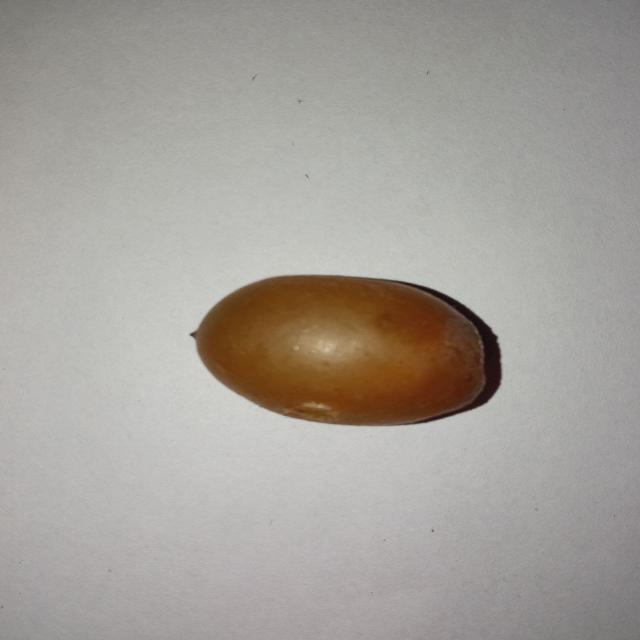rotten_grape: (193, 274, 490, 424)
